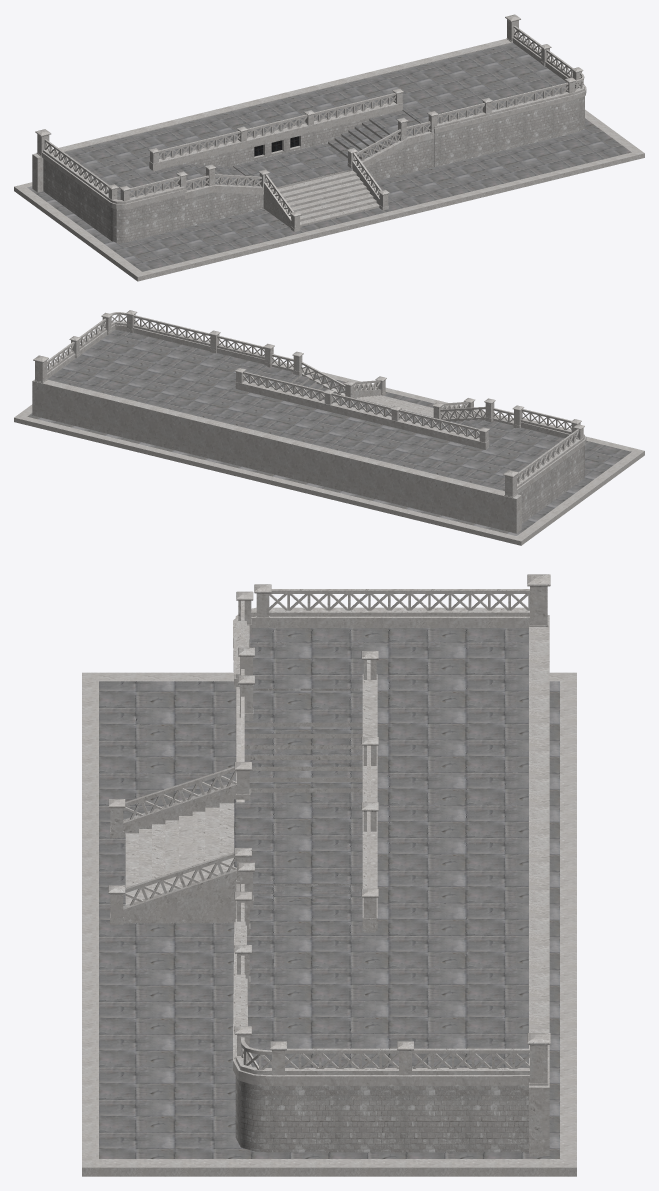
The model's file is fbxStairs.fbx.
3 views of the same model, one above another, from view 1: azimuth 30°, elevation 25°; view 2: azimuth 150°, elevation 25°; view 3: azimuth 270°, elevation 25° (orthographic). The views are drawn at different scales.
Parts seen in each view (by area): view 1: stairs21, floor; view 2: stairs21, floor; view 3: stairs21, floor.
Boxes of the visible parts, x1,y1,x2,y2 form: stairs21: (32, 14, 586, 242); floor: (14, 109, 644, 281); stairs21: (32, 310, 586, 533); floor: (14, 361, 644, 545); stairs21: (108, 574, 550, 1156); floor: (82, 672, 576, 1176).
Size of the model in its own units: 10.12 by 1.18 by 4.27.
4 materials, 4 textured.
